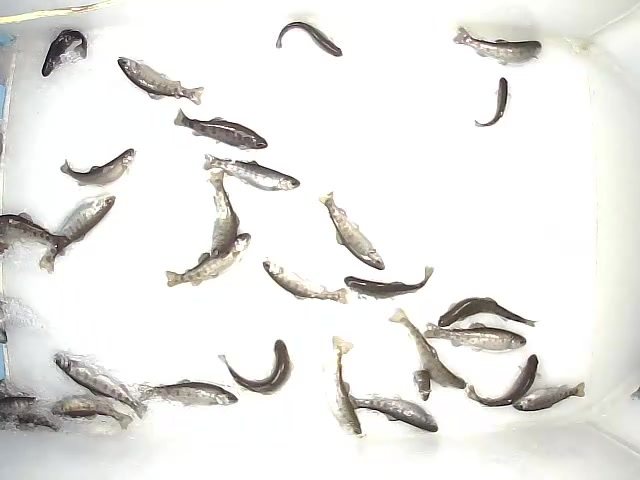fish: (49, 349, 152, 421), (384, 306, 469, 392), (36, 192, 118, 275), (315, 188, 386, 272), (161, 230, 253, 289), (112, 54, 207, 108), (216, 337, 295, 395), (173, 105, 268, 151), (261, 257, 348, 307), (465, 351, 540, 407), (202, 151, 303, 192), (336, 393, 439, 433), (451, 24, 546, 66), (326, 334, 365, 436), (433, 294, 539, 329), (419, 320, 529, 352), (205, 168, 241, 262), (58, 145, 137, 187), (50, 392, 135, 431), (344, 265, 436, 300), (133, 377, 239, 407), (275, 19, 345, 60), (42, 27, 90, 80), (514, 379, 588, 413), (474, 73, 512, 128), (412, 364, 433, 402)
